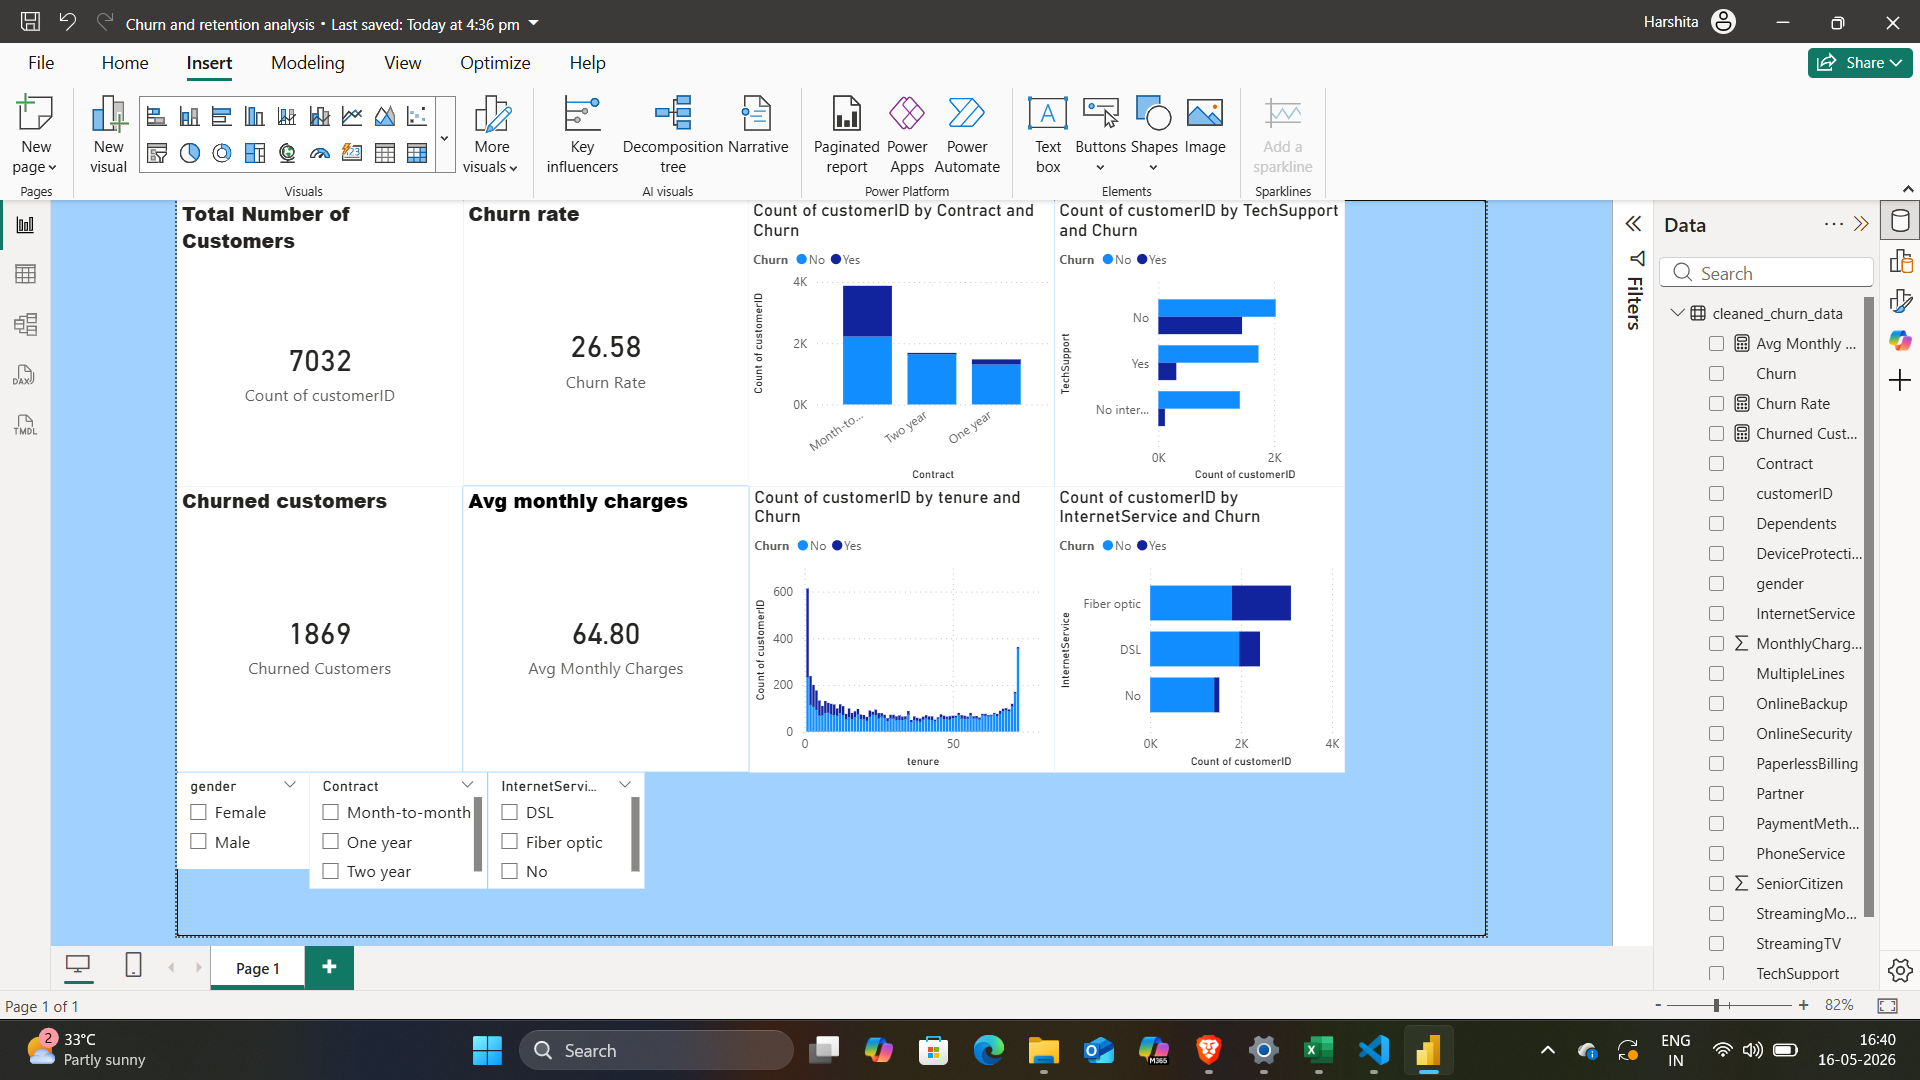

What the dashboard file says about the page in this screenshot:
{"tool":"powerbi","page":{"name":"Page 1","canvas":[1280,720],"ordinal":0},"visuals":[{"type":"card","title":"Total Number of Customers","fields":{"Values":["Count(cleaned_churn_data.customerID)"]},"box":[0,0,280,280],"z":0},{"type":"card","title":"Churned customers","fields":{"Values":["cleaned_churn_data.Churned Customers"]},"box":[0,279.4,279.4,279.4],"z":1000},{"type":"card","title":"Churn rate","fields":{"Values":["cleaned_churn_data.Churn Rate"]},"box":[279.4,0,279.4,279.4],"z":2000},{"type":"card","title":"Avg monthly charges","fields":{"Values":["cleaned_churn_data.Avg Monthly Charges"]},"box":[279.4,279.4,279.4,279.4],"z":3000},{"type":"columnChart","fields":{"Category":["cleaned_churn_data.Contract"],"Series":["cleaned_churn_data.Churn"],"Y":["Count(cleaned_churn_data.customerID)"]},"box":[558.8,0,299.6,280],"z":4000},{"type":"columnChart","fields":{"Series":["cleaned_churn_data.Churn"],"Category":["cleaned_churn_data.tenure"],"Y":["CountNonNull(cleaned_churn_data.customerID)"]},"box":[560.1,280,298.4,280],"z":5000},{"type":"clusteredBarChart","fields":{"Category":["cleaned_churn_data.TechSupport"],"Series":["cleaned_churn_data.Churn"],"Y":["CountNonNull(cleaned_churn_data.customerID)"]},"box":[858.4,0,283.7,280],"z":5001},{"type":"barChart","fields":{"Y":["CountNonNull(cleaned_churn_data.customerID)"],"Category":["cleaned_churn_data.InternetService"],"Series":["cleaned_churn_data.Churn"]},"box":[858.4,280,283.7,280],"z":5002},{"type":"slicer","fields":{"Values":["cleaned_churn_data.gender"]},"box":[0,560.1,129.6,94.2],"z":5003},{"type":"slicer","fields":{"Values":["cleaned_churn_data.Contract"]},"box":[129.6,560.1,173.6,113.7],"z":5004},{"type":"slicer","fields":{"Values":["cleaned_churn_data.InternetService"]},"box":[304.5,560.1,152.9,113.7],"z":5005}]}

Visuals, with their boxes on the page's 1280x720 design canvas (x1, y1, x2, y2). These are canvas units, not pixel positions in the 1920x1080 screenshot, which may show the page scaled, cropped or inside an application window:
"Total Number of Customers" card: region(0, 0, 280, 280)
"Churned customers" card: region(0, 279, 279, 559)
"Churn rate" card: region(279, 0, 559, 279)
"Avg monthly charges" card: region(279, 279, 559, 559)
columnChart - cleaned_churn_data.Contract x cleaned_churn_data.Churn: region(559, 0, 858, 280)
columnChart - cleaned_churn_data.Churn x cleaned_churn_data.tenure: region(560, 280, 858, 560)
clusteredBarChart - cleaned_churn_data.TechSupport x cleaned_churn_data.Churn: region(858, 0, 1142, 280)
barChart - CountNonNull(cleaned_churn_data.customerID) x cleaned_churn_data.InternetService: region(858, 280, 1142, 560)
slicer - cleaned_churn_data.gender: region(0, 560, 130, 654)
slicer - cleaned_churn_data.Contract: region(130, 560, 303, 674)
slicer - cleaned_churn_data.InternetService: region(304, 560, 457, 674)
